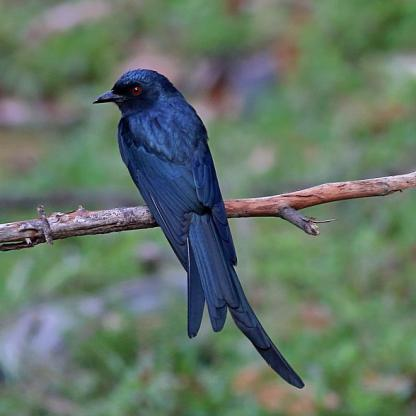Burung: (94, 68, 306, 388)
